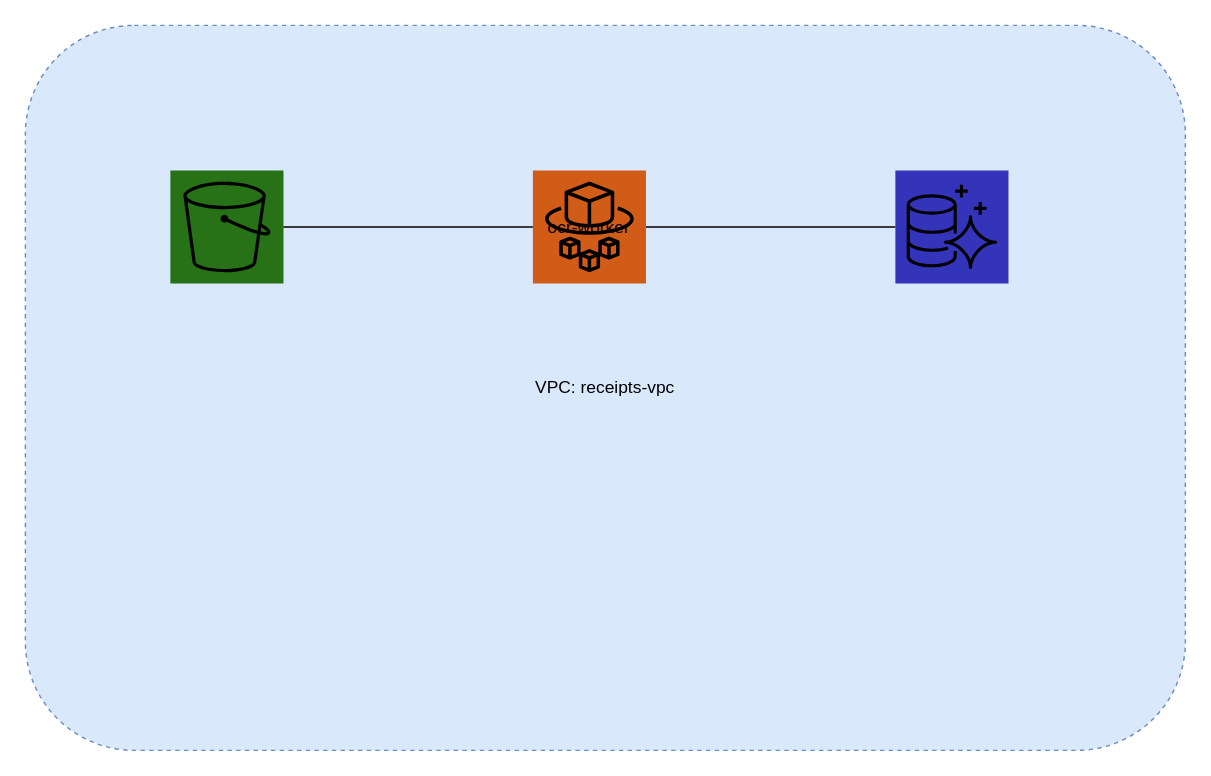
Some shapes in this 1211 by 776 pixel diagram are drawn without their labels. The box of each missing label's shape, as (x1, y1, x2, y2) in pixels:
ocr-results: (894, 169, 1008, 283)
receipts-images: (169, 169, 283, 283)
